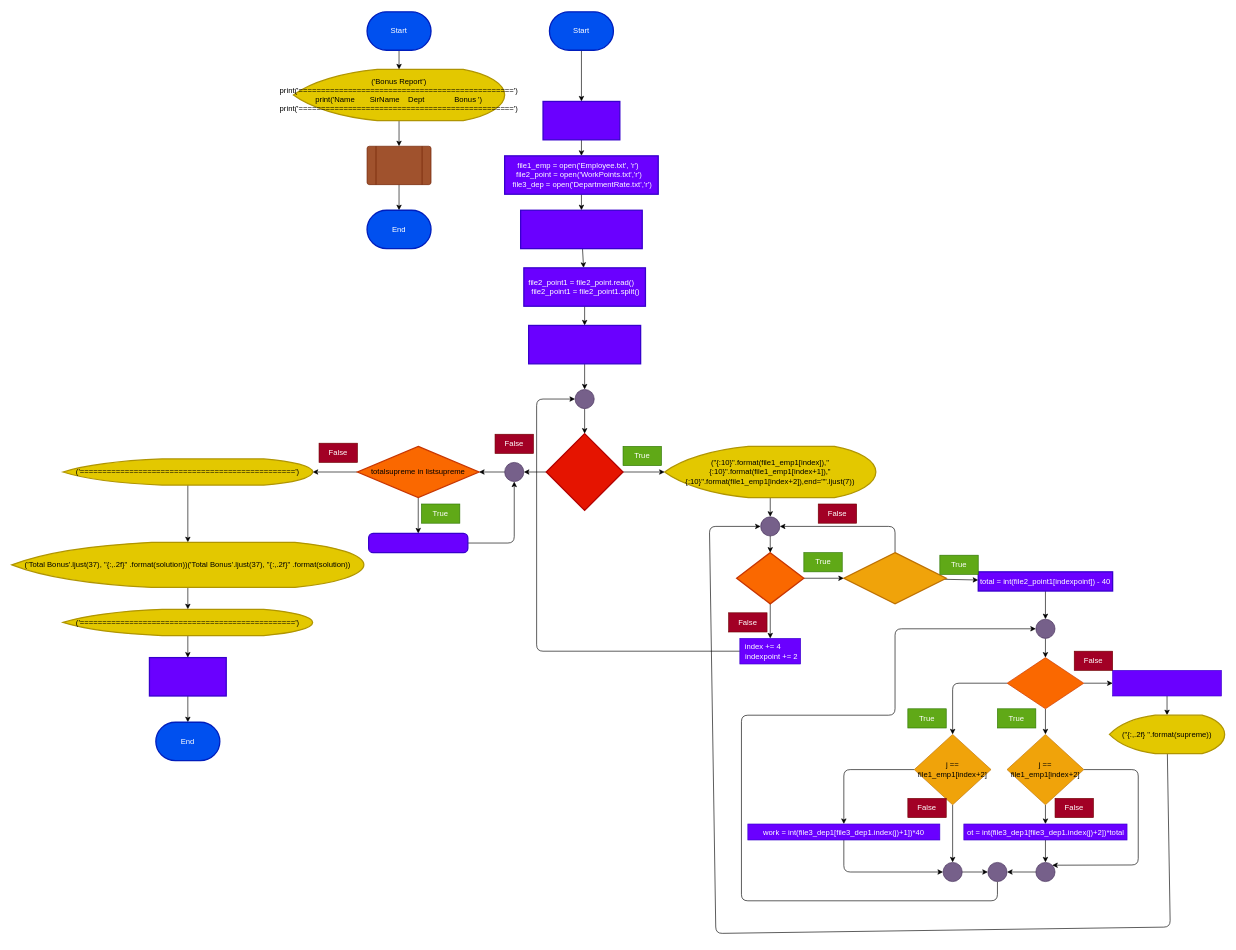
Some shapes in this 1236 by 950 pixel diagram are drawn without their labels. Each missing label, with the centre of its shape:
"file1_emp.close() file2_point.close() file3_dep.close()" goes at pixel 187 676.
"file1_emp1 = file1_emp.read() file1_emp1 = file1_emp1.split('\n')" goes at pixel 581 229.
"file3_dep1 = file3_dep.read() file3_dep1 = file3_dep1.split()" goes at pixel 584 344.
"i == file1_emp1[index-1]" goes at pixel 895 578.
"i in file2_point1" goes at pixel 770 578.
"index < len(file1_emp1)" goes at pixel 584 472.
"index = 1 indexpoint = 1 listsupreme = [] solution = 0" goes at pixel 581 120.
"j in file3_dep1" goes at pixel 1045 683.
"main()" goes at pixel 398 165.
"solution += totalsupreme" goes at pixel 418 542.
"supreme = ot + work listsupreme.append(supreme)" goes at pixel 1166 683.
